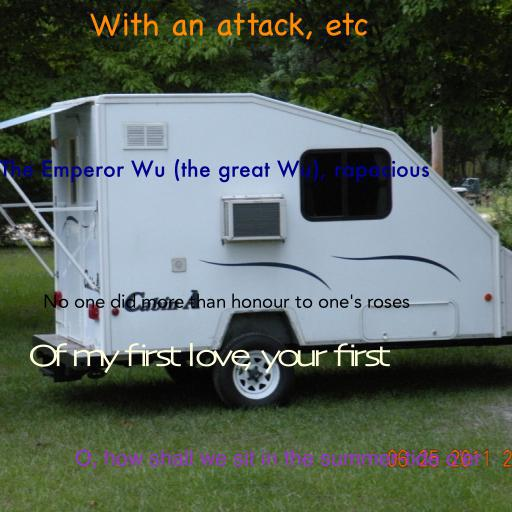Avenir: (42, 293, 410, 308)
Chalkboard: (89, 12, 369, 40)
Futura: (0, 158, 430, 183)
Impact: (75, 449, 481, 469)
Skia: (28, 343, 388, 374)
